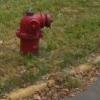Hydrant: (13, 5, 56, 60)
